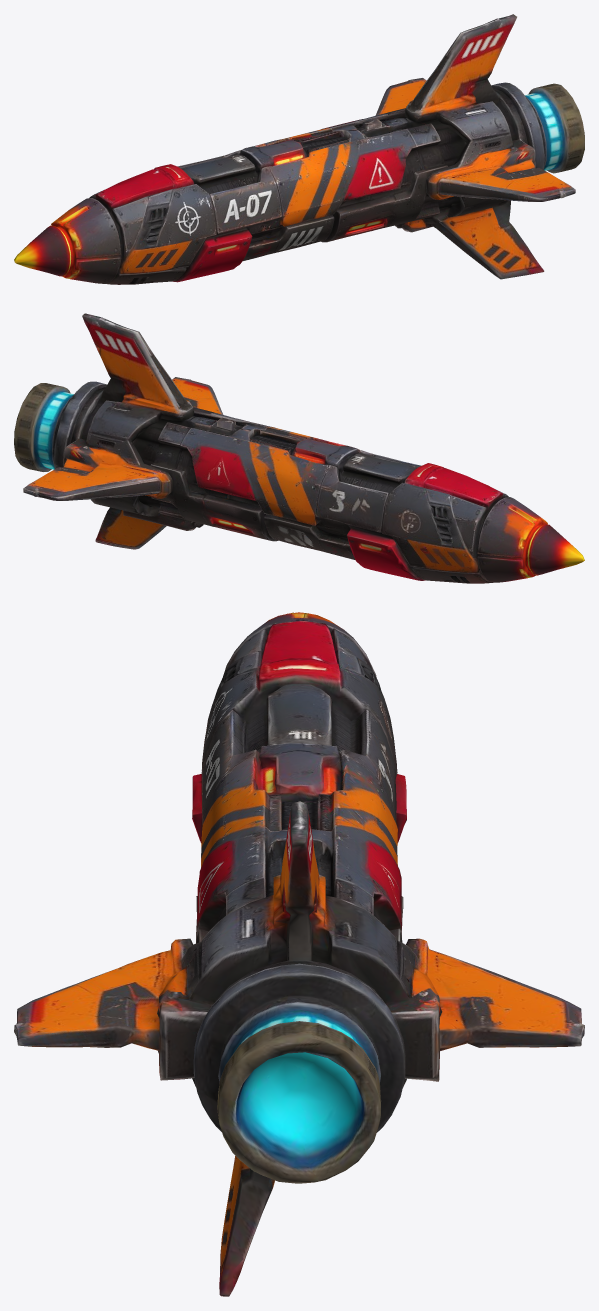
Rendered from rocket.glb.
3 renders of one model, top to bottom at view 1: azimuth 30°, elevation 25°; view 2: azimuth 150°, elevation 25°; view 3: azimuth 270°, elevation 25°, orthographic. The views are drawn at different scales.
Visible parts, largest first — view 1: tripo_node_0205899f-d5da-46c5-be42-0695dcc8a11b; view 2: tripo_node_0205899f-d5da-46c5-be42-0695dcc8a11b; view 3: tripo_node_0205899f-d5da-46c5-be42-0695dcc8a11b.
Boxes of the visible parts, x1,y1,x2,y2 form: tripo_node_0205899f-d5da-46c5-be42-0695dcc8a11b: (14,14,584,284); tripo_node_0205899f-d5da-46c5-be42-0695dcc8a11b: (14,313,584,583); tripo_node_0205899f-d5da-46c5-be42-0695dcc8a11b: (14,612,584,1296).
Bounding box in the file's own units: 1 × 0.4246 × 0.4874.
Materials: 1 (1 with a texture image).
